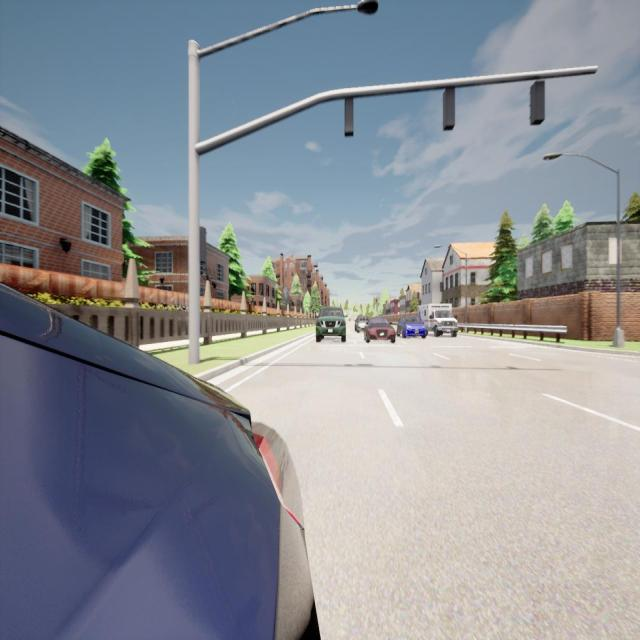Vehicle: (1, 279, 320, 638), (418, 303, 460, 337), (316, 306, 346, 344), (364, 316, 396, 344), (396, 315, 426, 338), (354, 311, 366, 334)
traffic_light: (530, 80, 545, 124), (443, 88, 455, 130), (344, 96, 354, 136), (200, 225, 207, 265)
